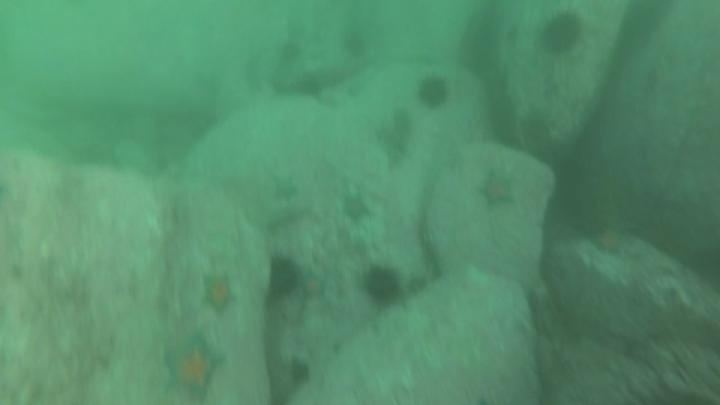echinus: (537, 10, 585, 57), (360, 263, 405, 309), (68, 138, 125, 174), (264, 253, 304, 302), (414, 73, 452, 112), (339, 27, 371, 61), (292, 72, 326, 102), (285, 355, 314, 389), (389, 106, 416, 140), (276, 38, 305, 66), (405, 272, 431, 299)
starfish: (159, 333, 229, 403), (474, 167, 520, 213), (198, 269, 241, 317), (587, 224, 631, 258), (337, 188, 375, 226), (296, 266, 332, 306), (267, 171, 303, 207)
